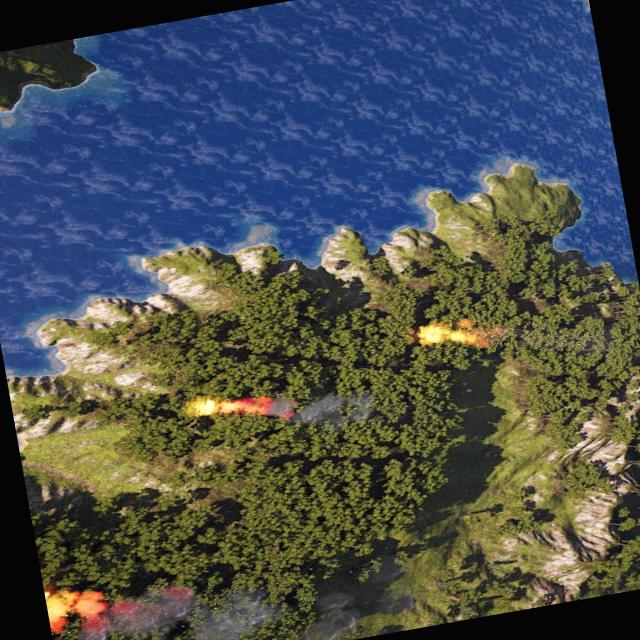fire: (46, 579, 112, 632), (418, 314, 486, 355), (193, 388, 266, 424)
smoke: (46, 554, 283, 640), (239, 372, 379, 442)
